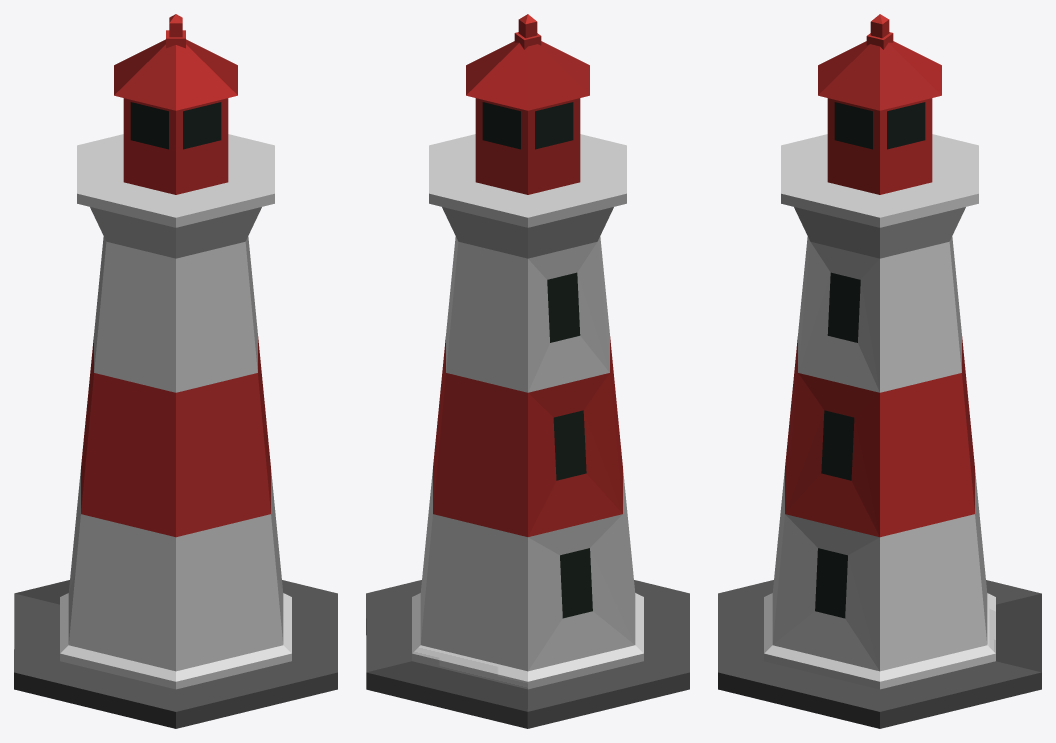
The model's file is dengta_01.FBX.
3 views of the same model, side by side, from view 1: azimuth 30°, elevation 25°; view 2: azimuth 150°, elevation 25°; view 3: azimuth 270°, elevation 25° (orthographic).
Parts seen in each view (by area): view 1: dengta_01; view 2: dengta_01; view 3: dengta_01.
Boxes of the visible parts, x1,y1,x2,y2 form: dengta_01: (14, 14, 337, 728); dengta_01: (366, 14, 689, 728); dengta_01: (718, 14, 1041, 728).
Bounding box in the file's own units: 435 × 816 × 376.
